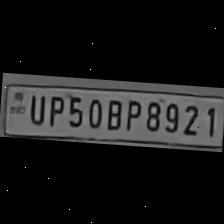0: (83, 94, 103, 129)
1: (200, 102, 218, 138)
2: (178, 101, 199, 136)
5: (64, 92, 84, 129)
8: (140, 96, 162, 132)
9: (160, 99, 180, 134)
B: (102, 96, 124, 130)
P: (44, 91, 64, 127), (122, 96, 142, 132)
U: (24, 91, 46, 126)
